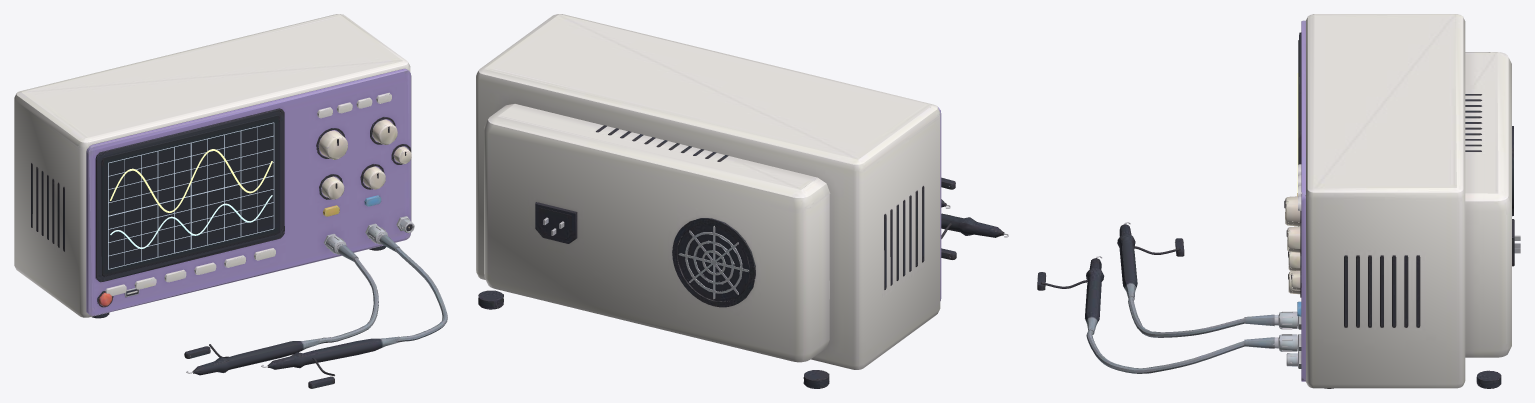
The model's file is oscilloscope-panel.glb.
The picture shows the model from 3 angles, left to right: view 1: azimuth 30°, elevation 25°; view 2: azimuth 150°, elevation 25°; view 3: azimuth 270°, elevation 25°; orthographic projection. The views are drawn at different scales.
Parts seen in each view (by area): view 1: oscilloscope_body, oscilloscope_traces_rgb; view 2: oscilloscope_body; view 3: oscilloscope_body.
Part boxes in pixels (x1,y1,x2,y2): oscilloscope_body: (14, 14, 447, 388); oscilloscope_traces_rgb: (108, 122, 274, 269); oscilloscope_body: (476, 14, 1008, 388); oscilloscope_body: (1037, 14, 1520, 388).
Size of the model in its own units: 0.3206 by 0.1712 by 0.3617.
4 materials, 1 textured.
